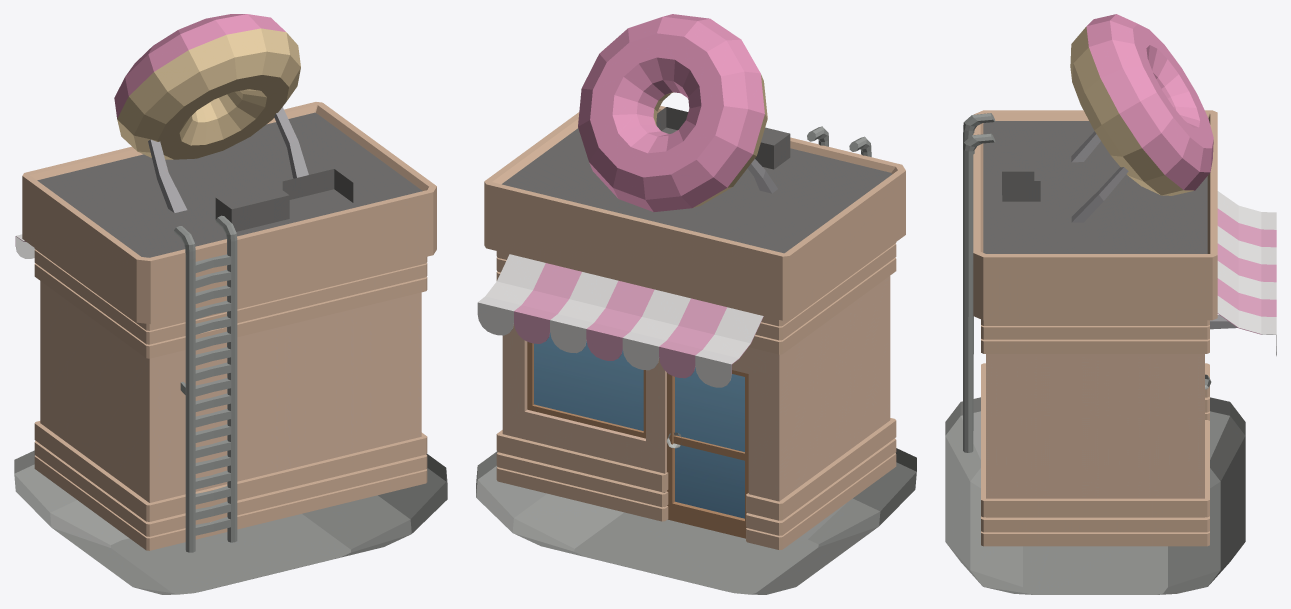
File: donut-store.glb
The picture shows the model from 3 angles, left to right: view 1: azimuth 30°, elevation 25°; view 2: azimuth 150°, elevation 25°; view 3: azimuth 270°, elevation 25°; orthographic projection.
Parts seen in each view (by area): view 1: Cube; view 2: Cube, Cube.001_Cube.004, Cube.004_Cube.008; view 3: Cube, Cube.004_Cube.008.
Boxes of the visible parts, bbox=[...] form: Cube: bbox=[14, 14, 447, 594]; Cube: bbox=[476, 14, 916, 594]; Cube.001_Cube.004: bbox=[534, 332, 744, 518]; Cube.004_Cube.008: bbox=[477, 254, 763, 387]; Cube: bbox=[945, 14, 1276, 594]; Cube.004_Cube.008: bbox=[1217, 191, 1276, 356].
Bounding box in the file's own units: 3.18 × 4.8 × 2.74.
Materials: 3 (3 with a texture image).
